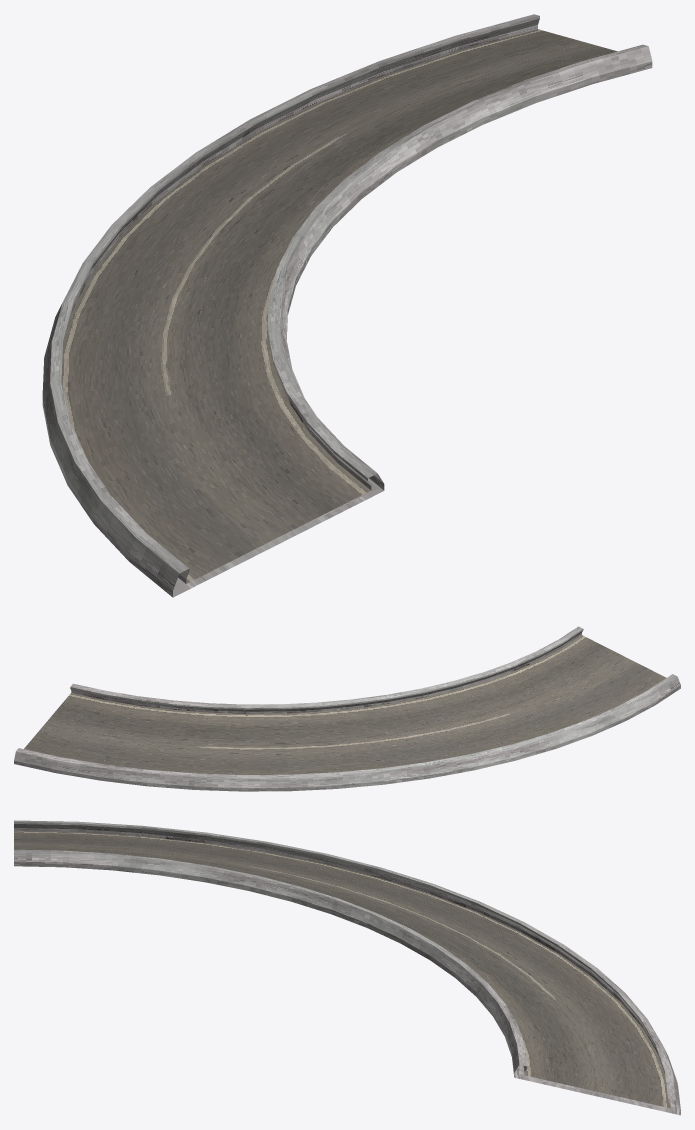
File: road-Turn-HalfBankedLeft-HalfBankedLeft-Even-Right-Size4.glb
3 renders of one model, top to bottom at view 1: azimuth 30°, elevation 25°; view 2: azimuth 150°, elevation 25°; view 3: azimuth 270°, elevation 25°, orthographic. The views are drawn at different scales.
Parts seen in each view (by area): view 1: road-Turn-HalfBankedLeft-HalfBankedLeft-Even-Right-Size4; view 2: road-Turn-HalfBankedLeft-HalfBankedLeft-Even-Right-Size4; view 3: road-Turn-HalfBankedLeft-HalfBankedLeft-Even-Right-Size4.
Boxes of the visible parts, x1,y1,x2,y2 form: road-Turn-HalfBankedLeft-HalfBankedLeft-Even-Right-Size4: (42, 14, 652, 597); road-Turn-HalfBankedLeft-HalfBankedLeft-Even-Right-Size4: (14, 626, 680, 791); road-Turn-HalfBankedLeft-HalfBankedLeft-Even-Right-Size4: (14, 820, 680, 1115).
Size of the model in its own units: 4 by 0.3359 by 4.
Materials: 2 (2 with a texture image).
